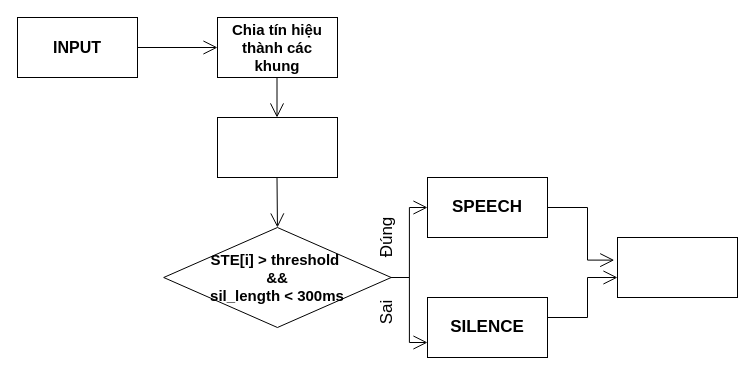
This 755x375 diagram has some shape labels left out. The box of each missing label's shape, as (x1, y1, x2, y2) in pixels:
OUTPUT: (616, 236, 738, 298)
Tính STE mỗi khung STE[i] và chuẩn hoá: (216, 116, 338, 178)
